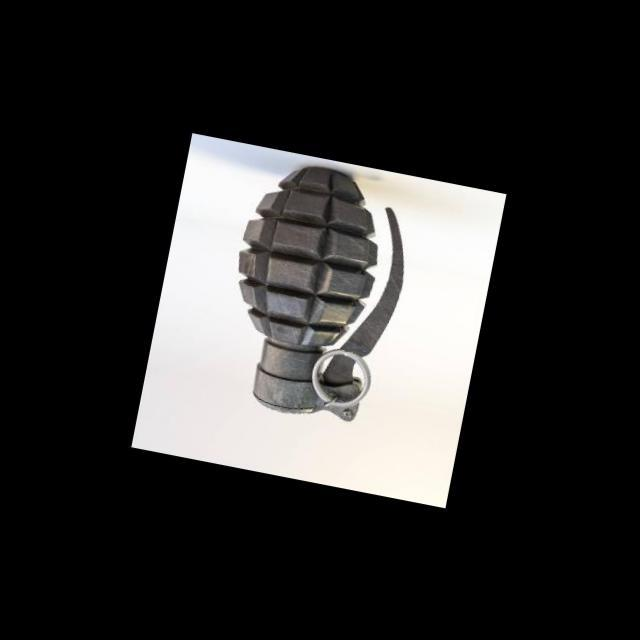grenade: (204, 156, 428, 430)
